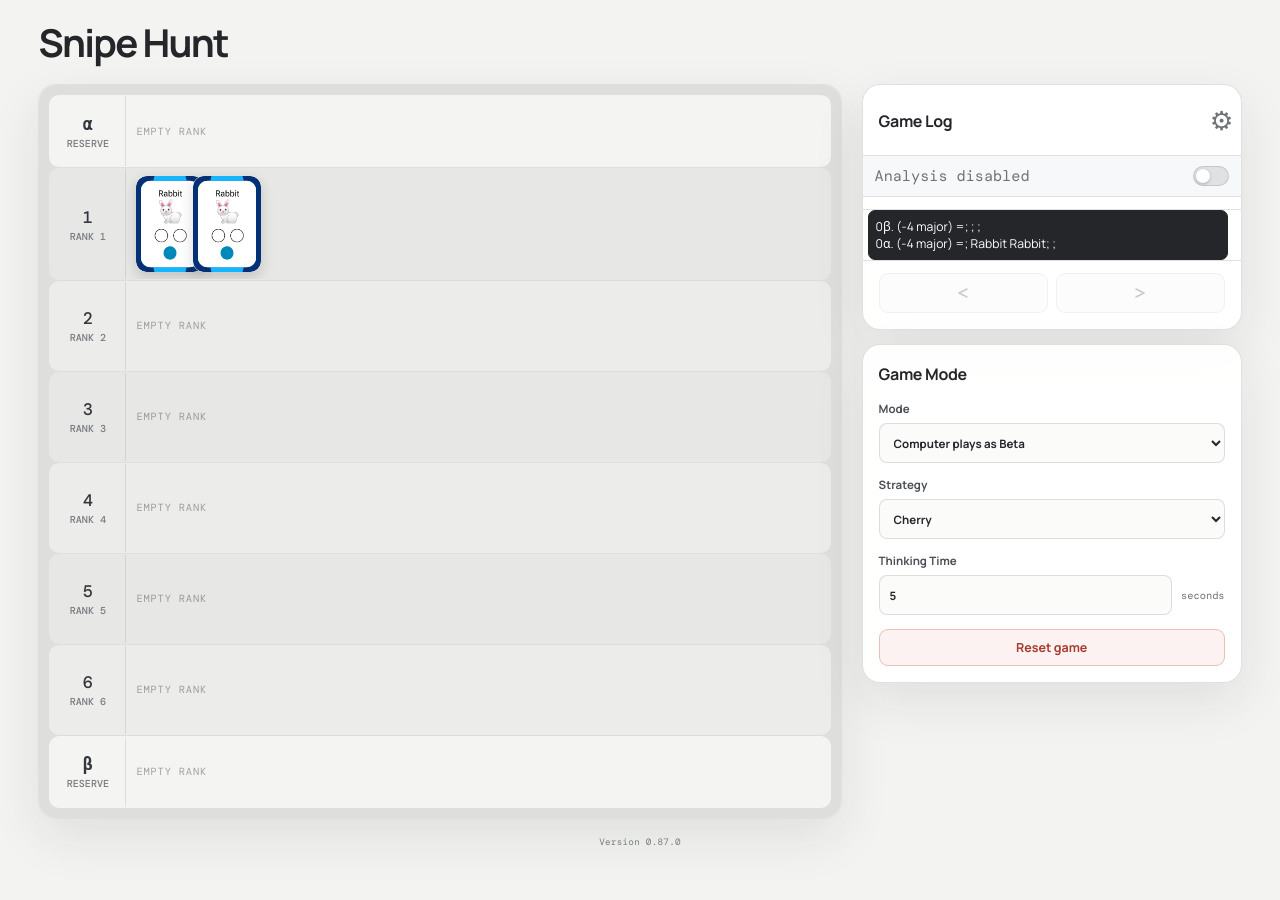
Scenario: presentation contract › places the analysis score at top left, switch at top right, and diagnostics at bottom
The image size is (1280, 900).
What coordinates should you click on to do the following:
click the switch named "Analysis"
I would click on:
 (1211, 176)
Its box is 1193,166 -> 1229,186.
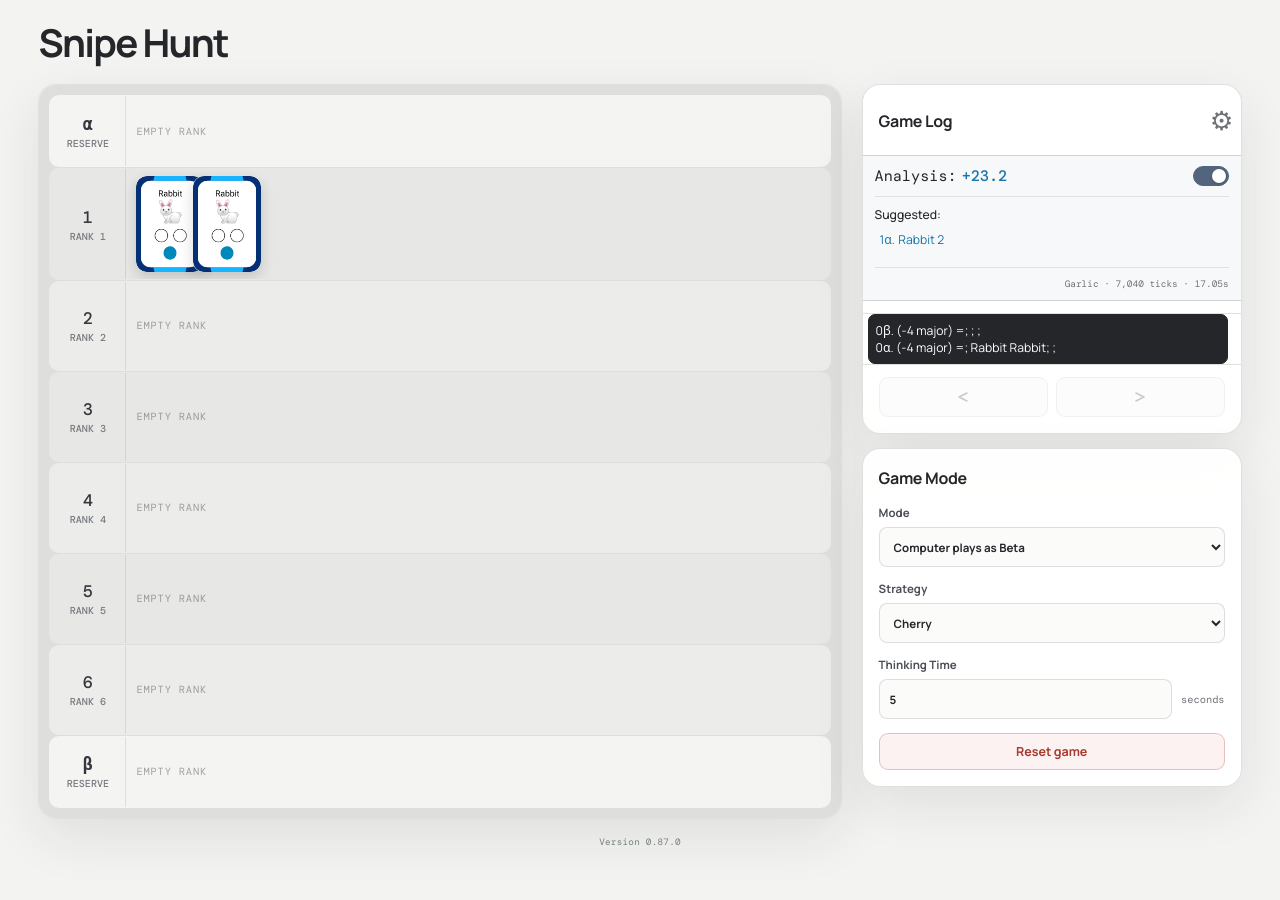
Result: the element showing "Analysis: +23.2" is shown at 875,166 -> 1007,186
